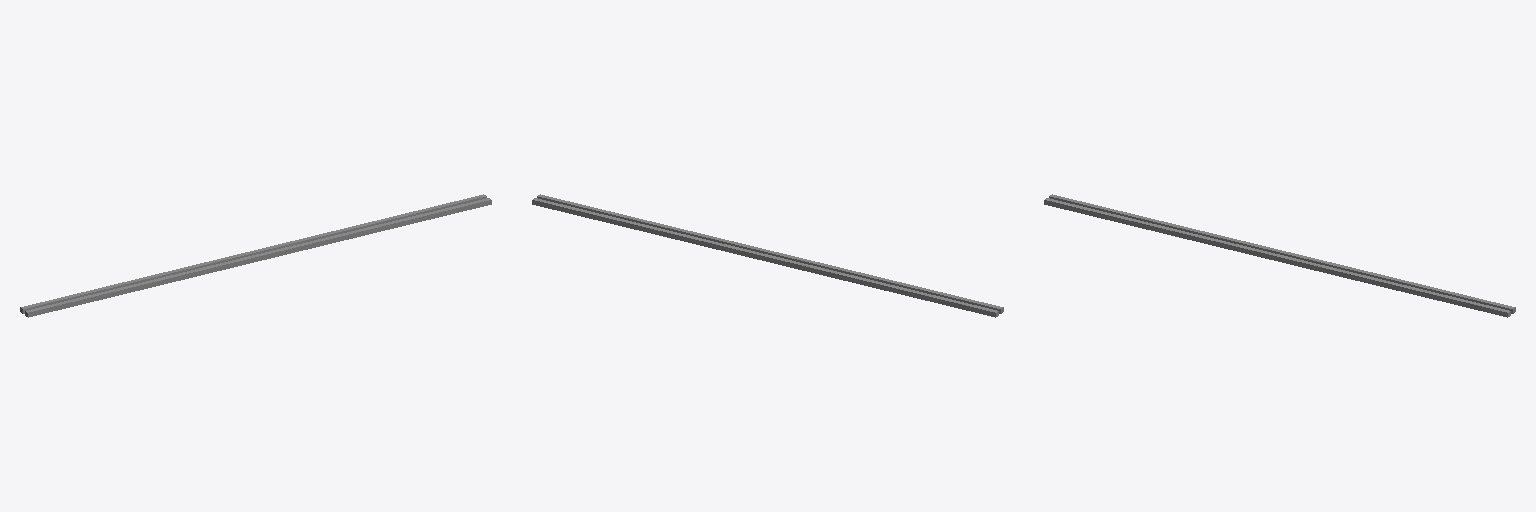
The robot description file, URDF, robot "vibro_table":
<?xml version="1.0"?>
<robot name="vibro_table">
    <material name="steel">
        <color rgba="0.6 0.6 0.6 1.0"/>
    </material>

    <link name="base_link"/>

    <link name="left_rail">
        <visual>
        <geometry>
            <box size="5.0 0.05 0.05"/> <!-- Длина, ширина, высота -->
        </geometry>
        <material name="steel"/>
        </visual>
        <collision>
        <geometry>
            <box size="5.0 0.05 0.05"/>
        </geometry>
        </collision>
        <inertial>
        <mass value="1.0"/>
        <inertia ixx="1.0" ixy="0" ixz="0" iyy="1.0" iyz="0" izz="1.0"/>
        </inertial>
    </link>

    <link name="right_rail">
        <visual>
        <geometry>
            <box size="5.0 0.05 0.05"/>
        </geometry>
        <material name="steel"/>
        </visual>
        <collision>
        <geometry>
            <box size="5.0 0.05 0.05"/>
        </geometry>
        </collision>
        <inertial>
        <mass value="1.0"/>
        <inertia ixx="1.0" ixy="0" ixz="0" iyy="1.0" iyz="0" izz="1.0"/>
        </inertial>
    </link>

        <!-- Соединение левой рельсы с базой -->
    <joint name="left_rail_joint" type="fixed">
        <parent link="base_link"/>
        <child link="left_rail"/>
        <origin xyz="0 0.045 0.001" rpy="0 0 0"/> <!-- Позиция относительно центра -->
    </joint>

    <!-- Соединение правой рельсы с базой -->
    <joint name="right_rail_joint" type="fixed">
        <parent link="base_link"/>
        <child link="right_rail"/>
        <origin xyz="0 -0.045 0.001" rpy="0 0 0"/> <!-- Параллельно левой рельсе -->
    </joint>
    <gazebo>
  <plugin name="move_planar" filename="libgazebo_ros_planar_move.so">
    <ros>
        <!-- Remap the default topic -->
        <remapping>cmd_vel:=platform_vel</remapping>
        <remapping>odom:=platform_odom</remapping>
    </ros>
    
    <odometry_frame>odom</odometry_frame>
    <robot_base_frame>base_link</robot_base_frame>
    <publish_odometry>true</publish_odometry>
    <publish_odometry_tf>true</publish_odometry_tf>
    <xy_velocity_max>1.0</xy_velocity_max>
    <yaw_velocity_max>1.0</yaw_velocity_max>
    <static>false</static> <!-- Для подвижных объектов -->
  </plugin>
</gazebo>
</robot>

--- Facts derived from the render (not from the file) ---
Views: 3 orthographic renders of the robot side by side, from view 1: azimuth 30°, elevation 25°; view 2: azimuth 150°, elevation 25°; view 3: azimuth 330°, elevation 25°.
Model vibro_table with 3 links and 2 joints (2 fixed), rooted at base_link, posed all joints at 0.
Links seen in each view (by area): view 1: right_rail, left_rail; view 2: left_rail, right_rail; view 3: right_rail, left_rail.
Boxes of the visible links, x1,y1,x2,y2 form: right_rail: [25, 198, 491, 317]; left_rail: [20, 194, 486, 313]; left_rail: [532, 198, 998, 317]; right_rail: [537, 194, 1003, 313]; right_rail: [1044, 198, 1510, 317]; left_rail: [1049, 194, 1515, 313].
Bounding box of the posed robot: 5 × 0.14 × 0.05 m (x, y, z).
Geometry: primitives only (box / cylinder / sphere), no mesh files.
